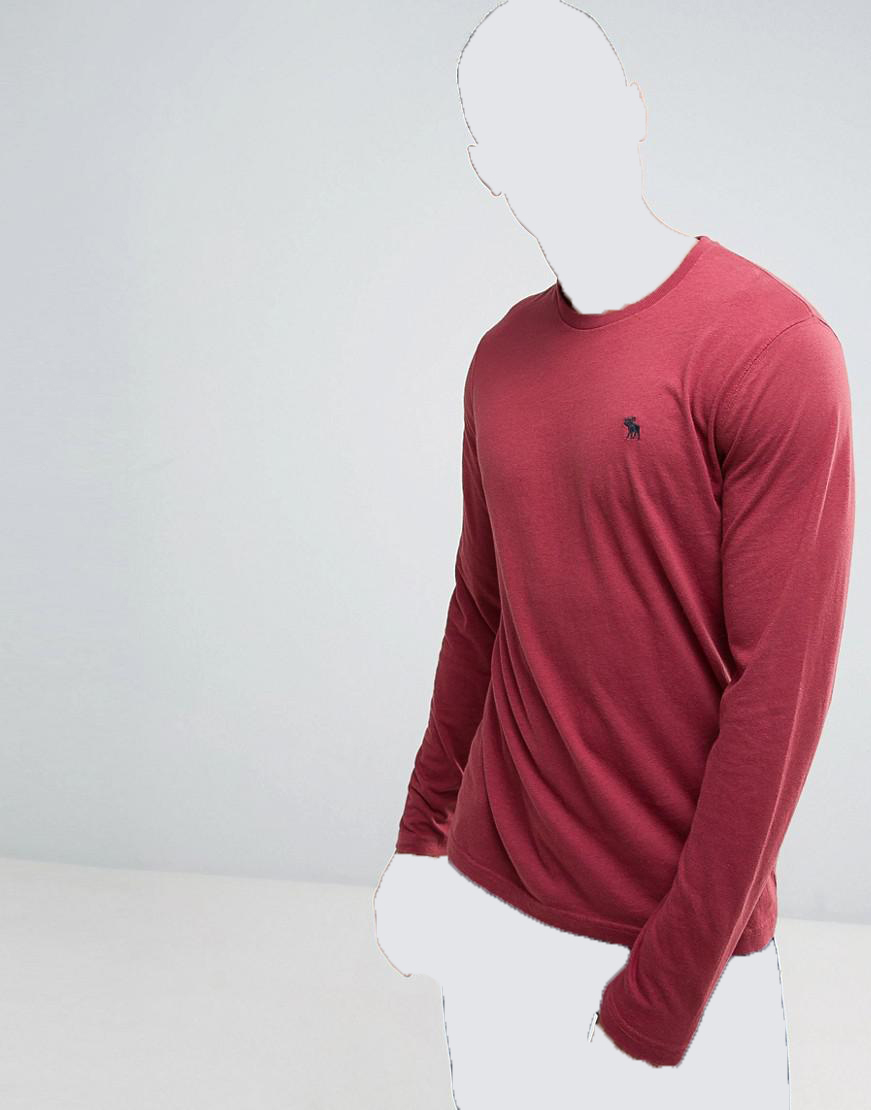teeshirt: (391, 234, 839, 1066)
